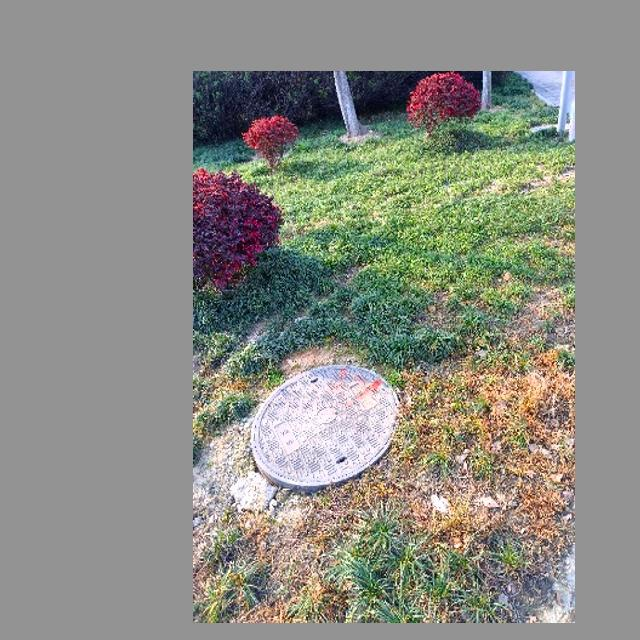good: (247, 359, 400, 491)
